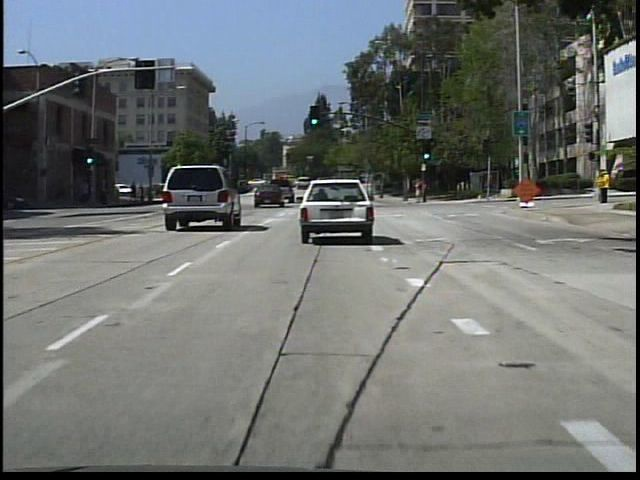person: (411, 174, 427, 209)
